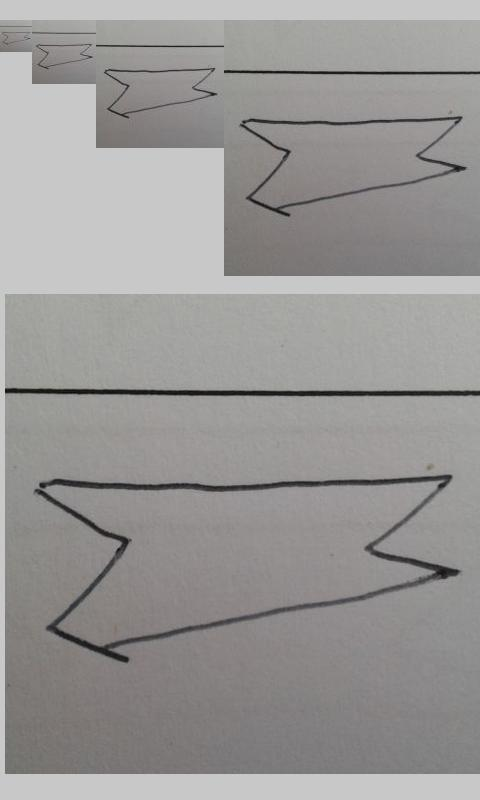edit_text: (39, 470, 463, 656), (241, 115, 466, 213), (103, 67, 219, 118), (37, 43, 93, 68), (2, 31, 30, 44)
